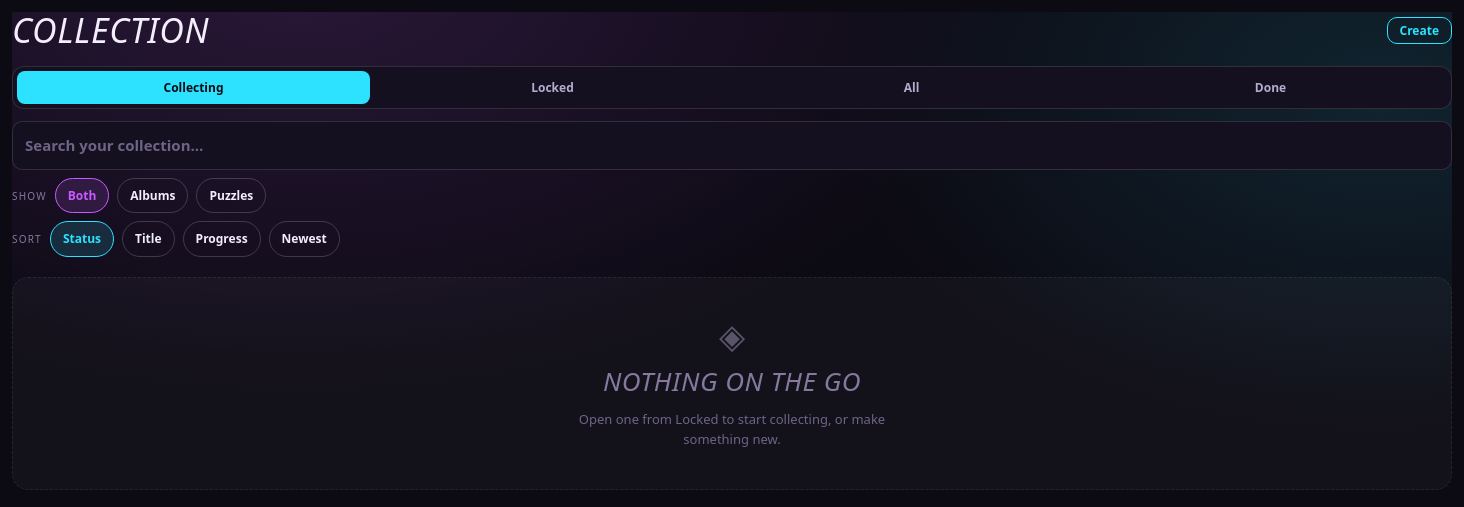
Test: the shelf › offers something to do when the shelf is empty
The width and height of the screenshot is (1464, 507).
Click the tab "All" at (912, 87), box [735,71,1088,104]
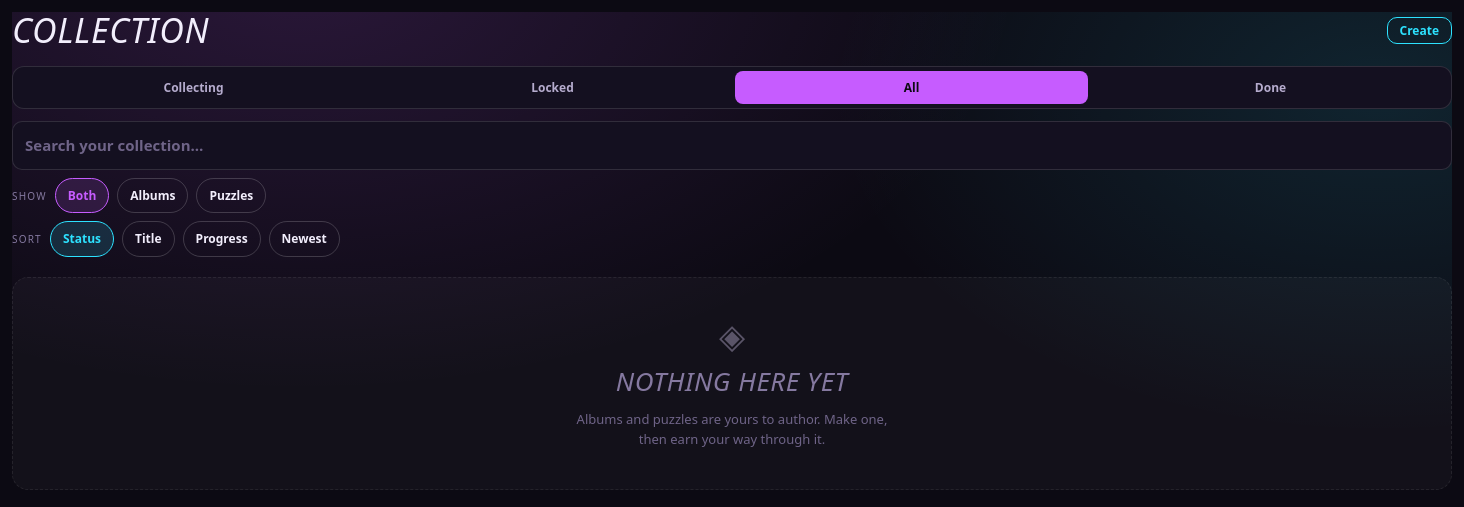
Expected: the heading "Nothing here yet" is shown, [616,364,848,398]
